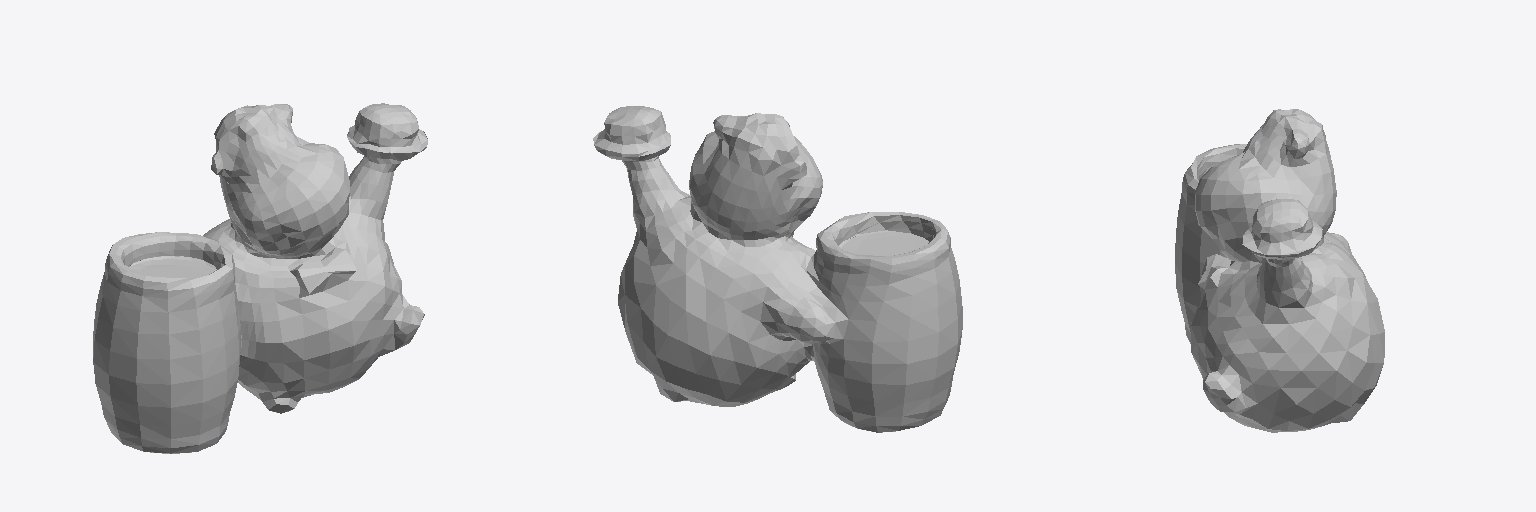
Rendered from Statuette.obj.
The picture shows the model from 3 angles: view 1: azimuth 30°, elevation 25°; view 2: azimuth 150°, elevation 25°; view 3: azimuth 270°, elevation 25°; orthographic projection.
Parts seen in each view (by area): view 1: Statuette; view 2: Statuette; view 3: Statuette.
Boxes of the visible parts, <box> form: Statuette: <box>93,103,427,453</box>; Statuette: <box>593,106,962,432</box>; Statuette: <box>1175,109,1384,432</box>.
Size of the model in its own units: 1.49 by 1.21 by 0.8072.